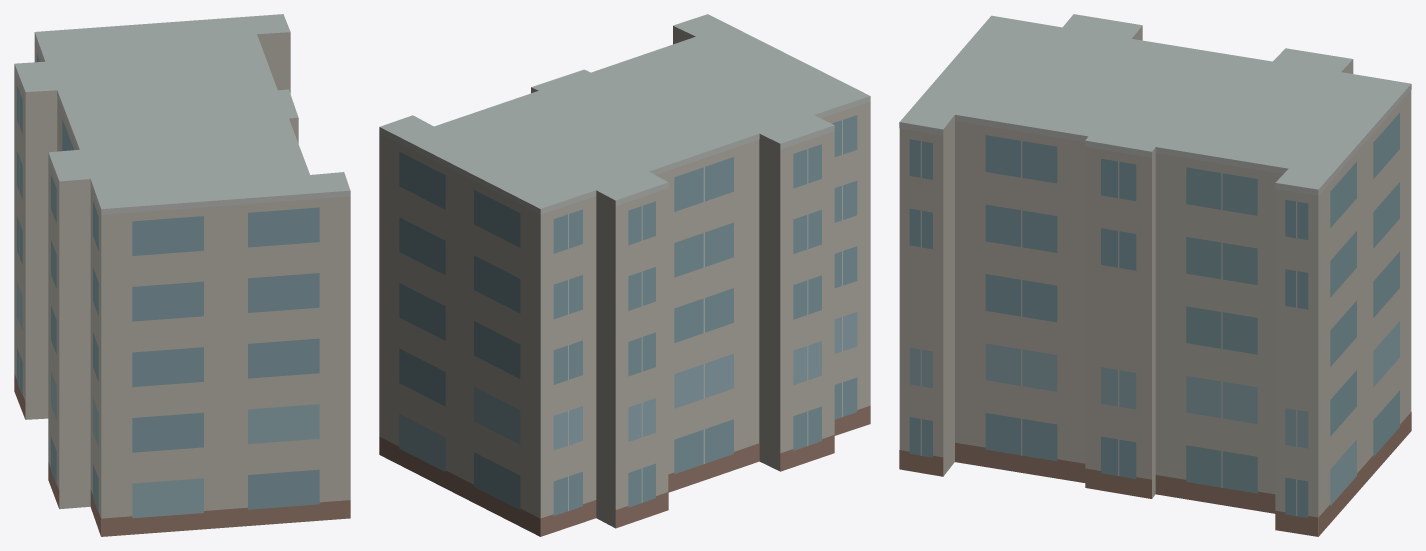
File: survey-upis-32949400.glb
3 renders of one model, left to right at view 1: azimuth 30°, elevation 25°; view 2: azimuth 150°, elevation 25°; view 3: azimuth 270°, elevation 25°, orthographic. The views are drawn at different scales.
Visible parts, largest first — view 1: survey-upis-32949400.tmp; view 2: survey-upis-32949400.tmp; view 3: survey-upis-32949400.tmp.
Part boxes in pixels (x1,y1,x2,y2): survey-upis-32949400.tmp: [14, 14, 350, 536]; survey-upis-32949400.tmp: [379, 14, 870, 536]; survey-upis-32949400.tmp: [899, 14, 1411, 536].
Size of the model in its own units: 14.97 by 13.8 by 18.45.
